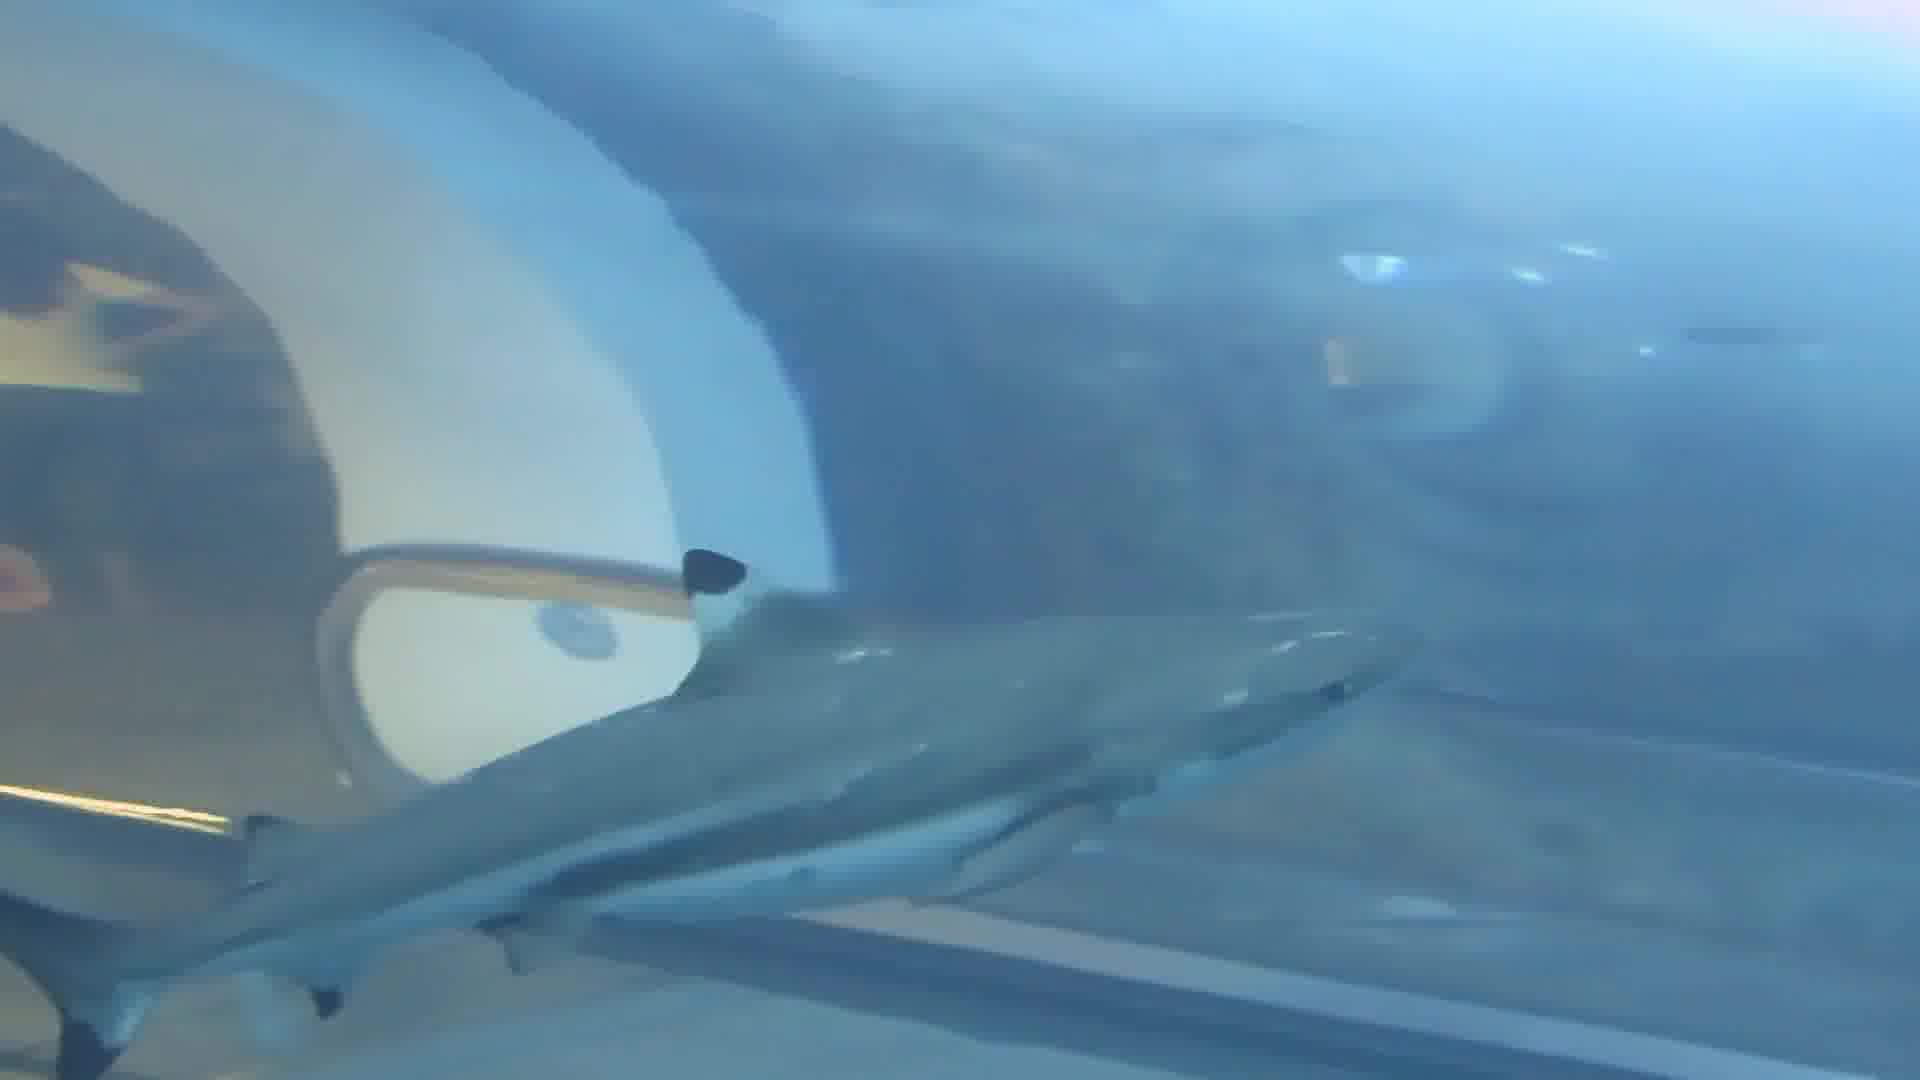Carcharhinus melanopterus: (1, 558, 1445, 1050)
